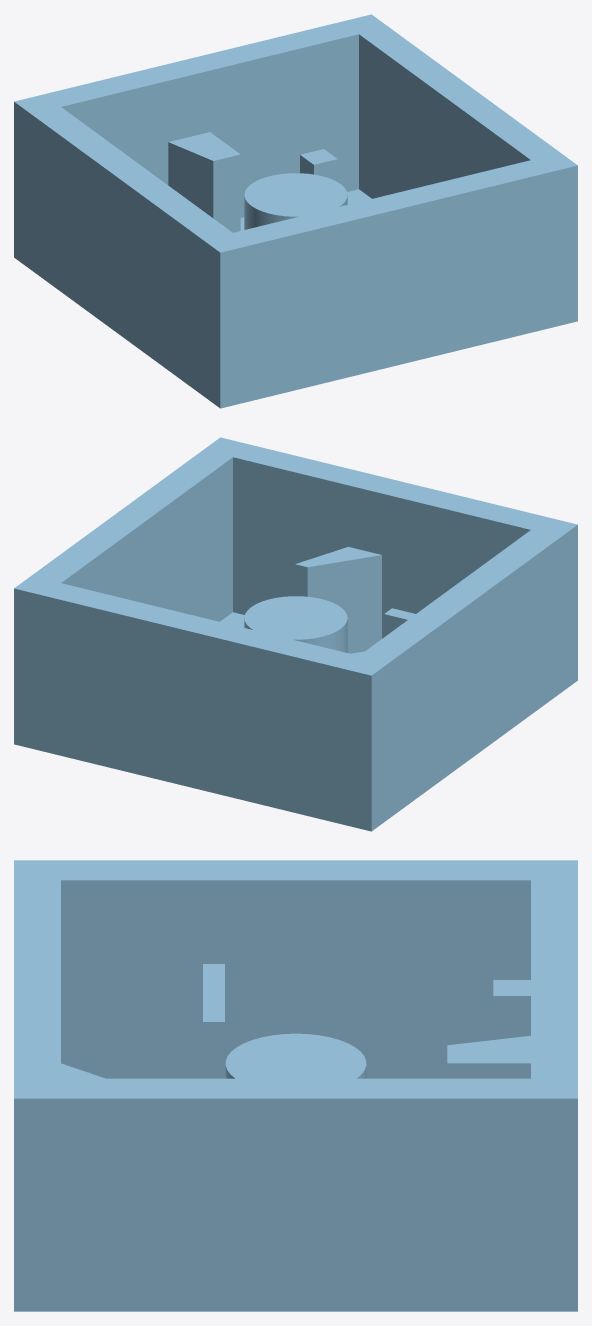
Rendered from mundo.dae.
3 renders of one model, top to bottom at view 1: azimuth 30°, elevation 25°; view 2: azimuth 150°, elevation 25°; view 3: azimuth 270°, elevation 25°, orthographic. The views are drawn at different scales.
Parts seen in each view (by area): view 1: ID2; view 2: ID2; view 3: ID2.
Part boxes in pixels (box(x1,y1,x2,y2)): ID2: box(14, 14, 577, 408); ID2: box(14, 437, 577, 831); ID2: box(14, 860, 577, 1311).
Size of the model in its own units: 12 by 12 by 5.
